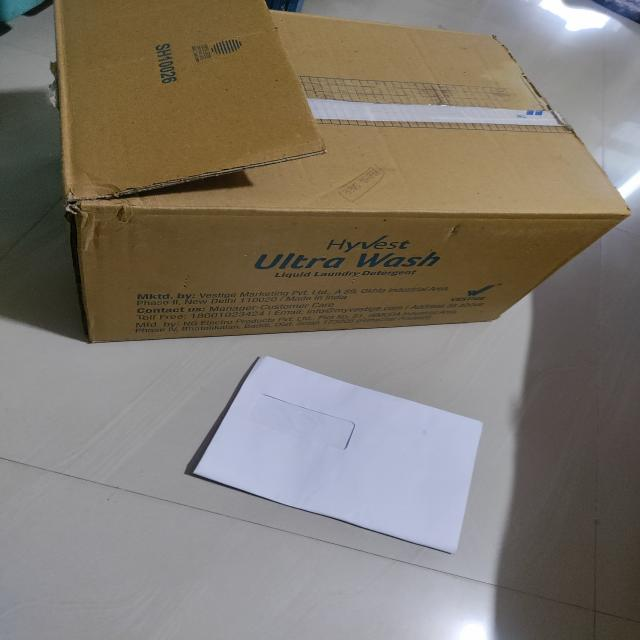dry: (55, 0, 631, 343), (188, 352, 491, 556)
